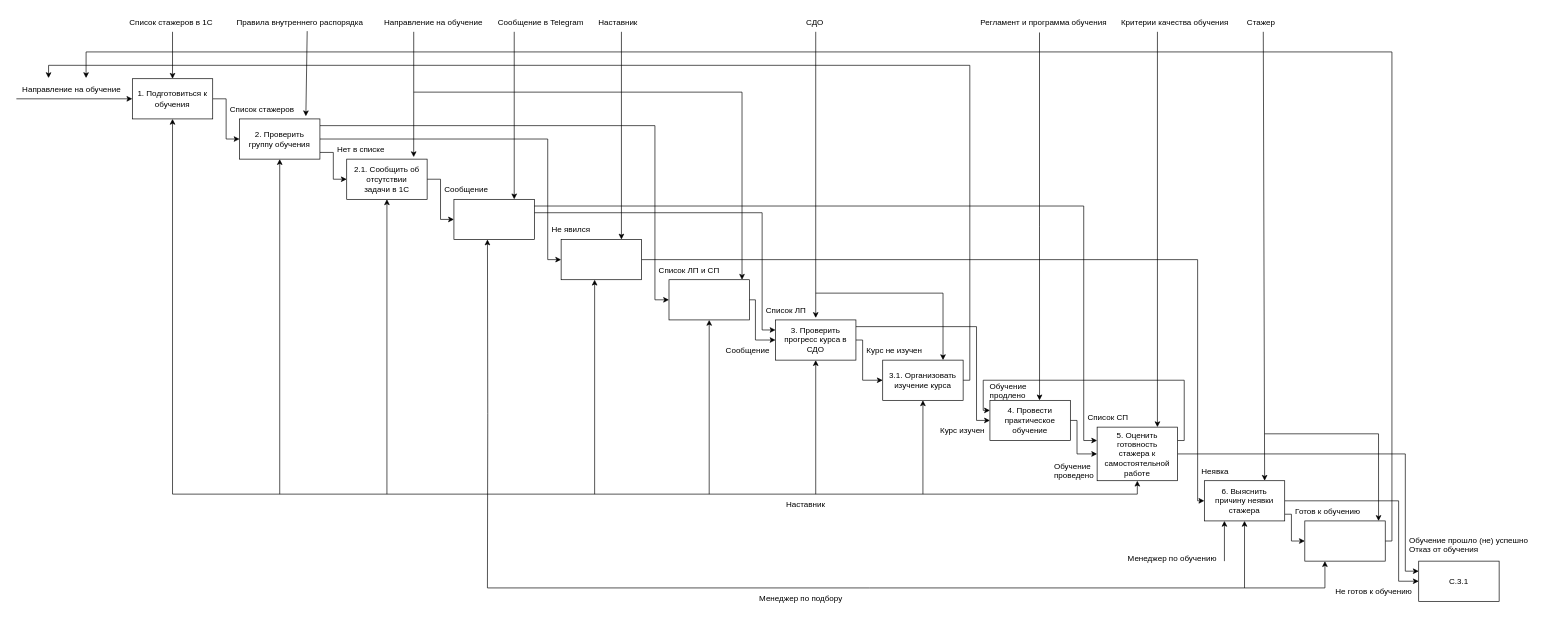
Image size: 1544x619. Some labels were removed from this diagram. The centre of each missing label's shape, as x and y in pixels:
"2.1.2. Назначить кандидата на задачу в 1С" goes at point 493,219.
"2.2. Поставить неявку в задаче в 1С" goes at point 601,259.
"2.3. Рассказать стажеру о правилах стажировки" goes at point 708,299.
"6.1. Скорректировать дату обучения в 1С" goes at point 1344,540.
